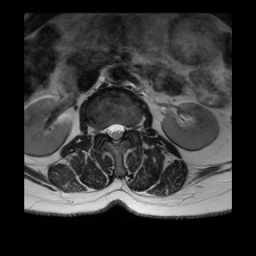CCS_normal: (112, 116, 119, 148)
LFS_stenosis: (126, 116, 134, 136)
LLS_normal: (119, 116, 126, 142)
RFS_stenosis: (99, 120, 105, 140)
RLS_normal: (105, 116, 112, 143)
